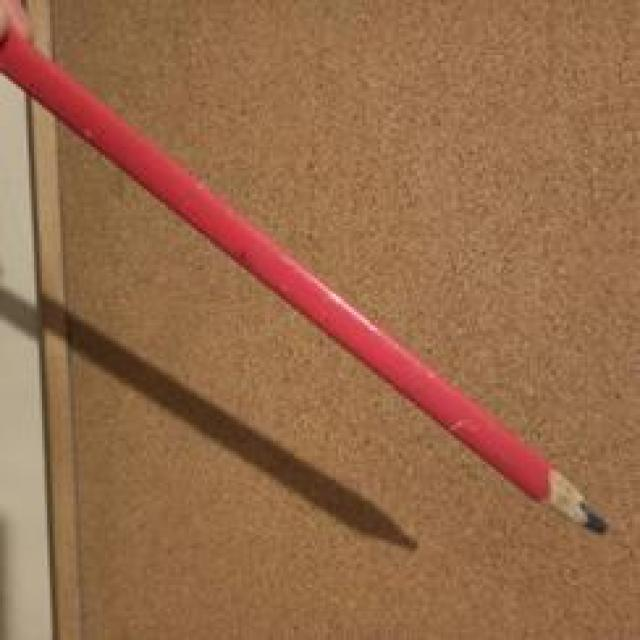pencil: (3, 1, 637, 572)
